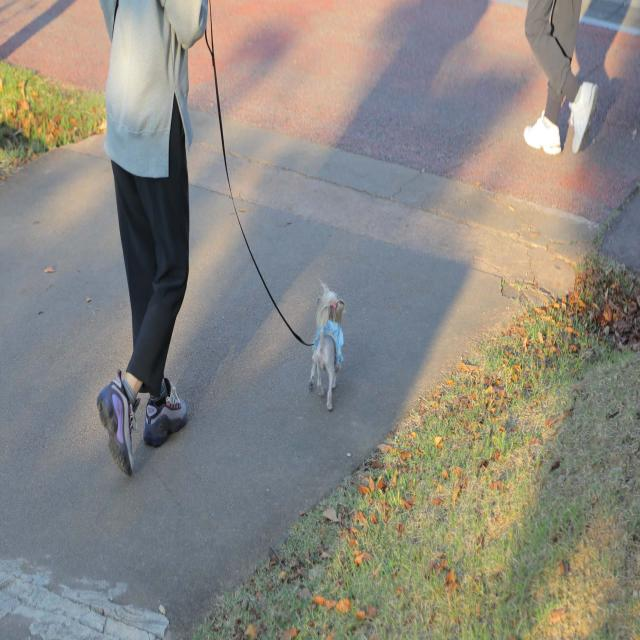Leashed_Dog: (139, 0, 345, 412)
